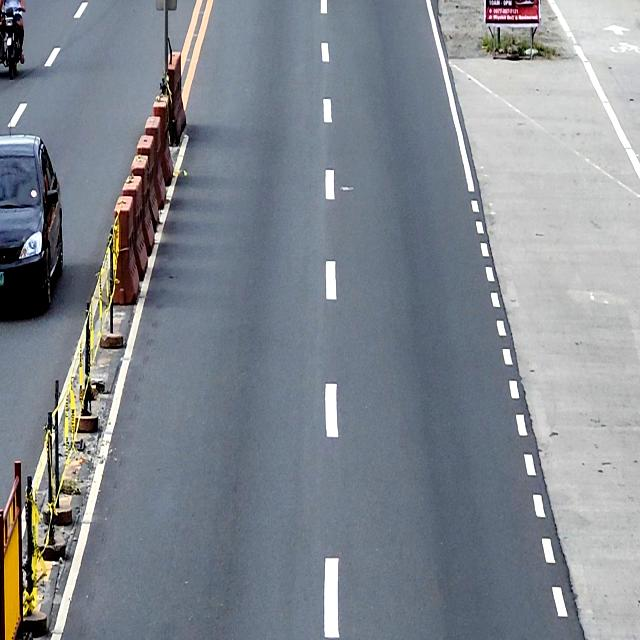Car: (0, 132, 63, 310)
